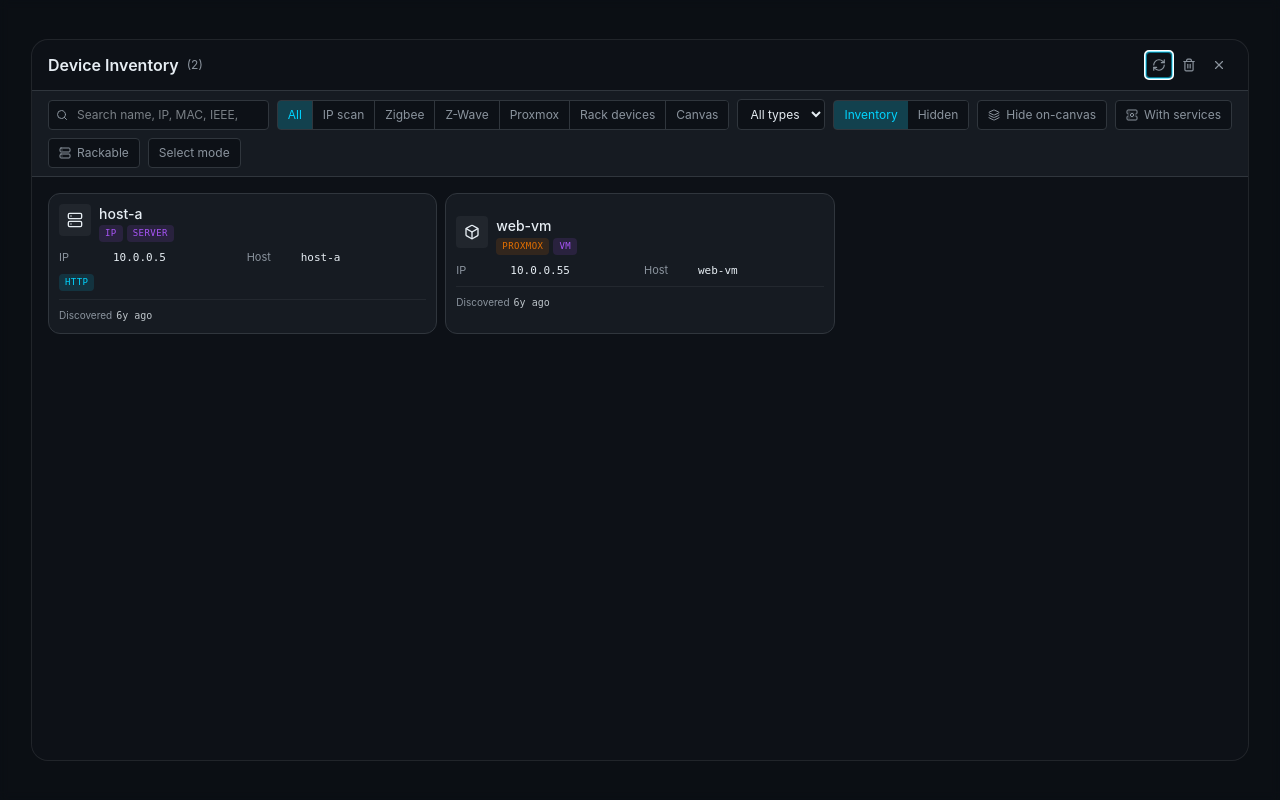
it: PendingDevicesModal — rackable filter and picker mode › drops virtual and mesh kinds when the filter is on
Expected: the button with test id "pending-card-dev-vm" is shown, [445, 193, 835, 334]
What coordinates should you click on to do the following:
click the button "Rackable"
I would click on:
 (94, 153)
Its box is [48, 138, 140, 168].
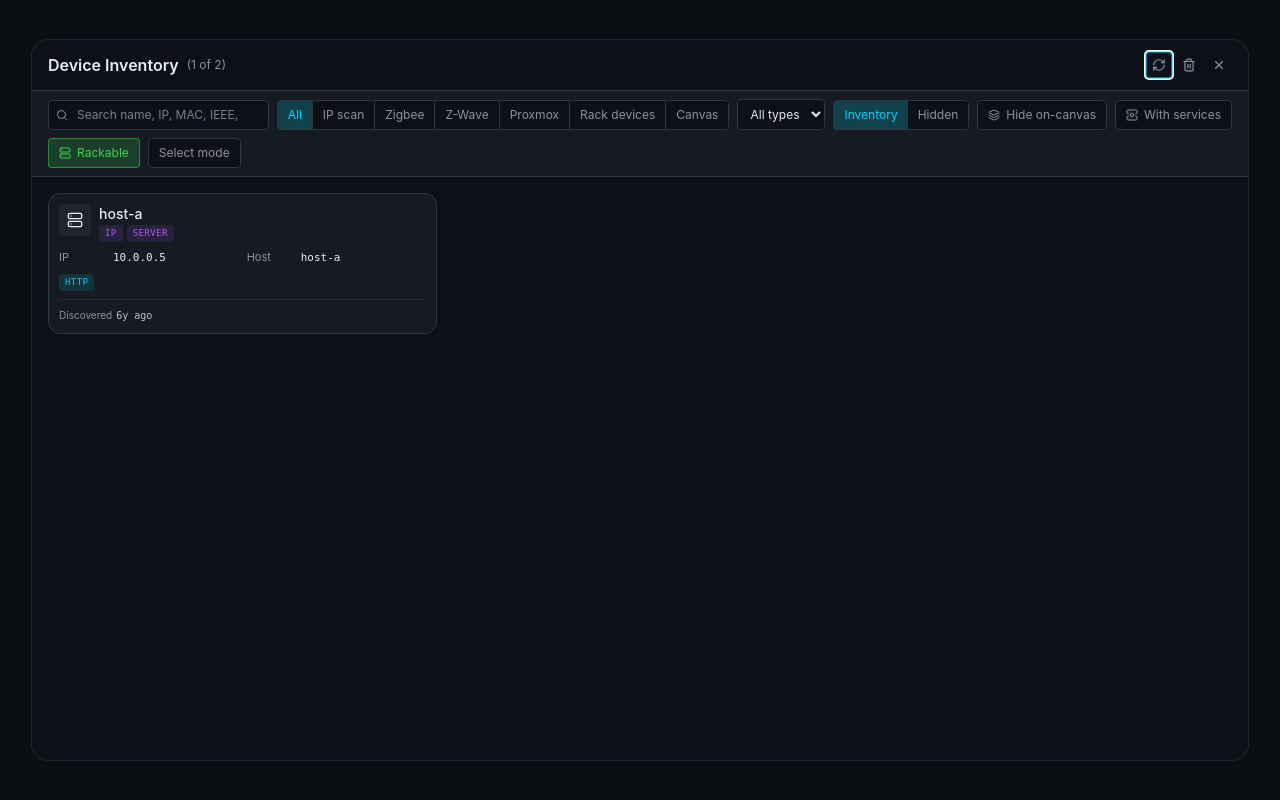
Expected: the button with test id "pending-card-dev-a" is shown, [48, 193, 437, 334]
Expected: the button with test id "pending-card-dev-vm" is gone
